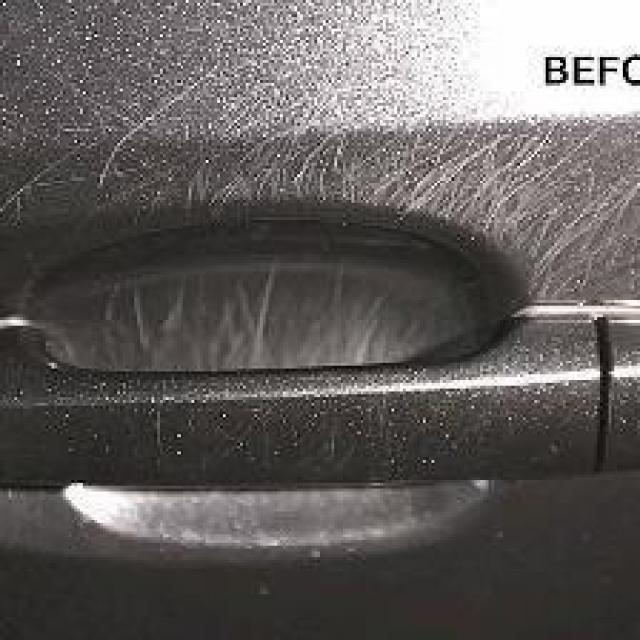damaged: (6, 80, 612, 380)
